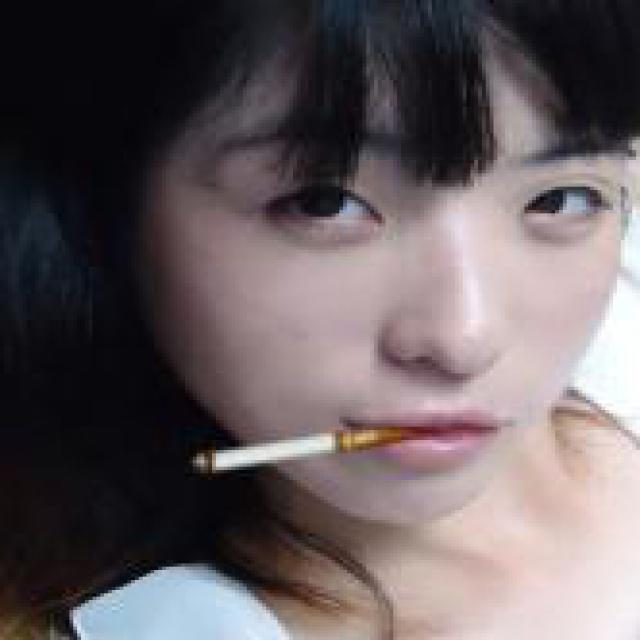smoking: (192, 419, 420, 480)
